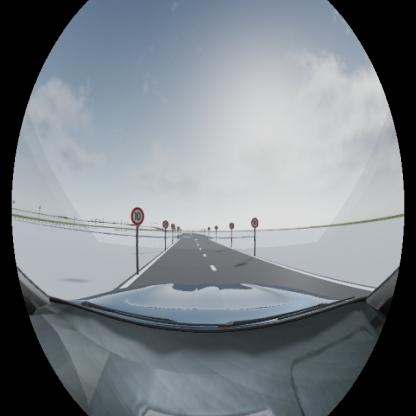Speed Limit 10: (131, 206, 144, 226), (251, 217, 258, 228)
